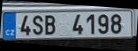character: (19, 14, 31, 35), (31, 14, 43, 35), (44, 14, 55, 35), (72, 13, 83, 34), (97, 13, 108, 34), (110, 13, 121, 33), (86, 13, 95, 34)
